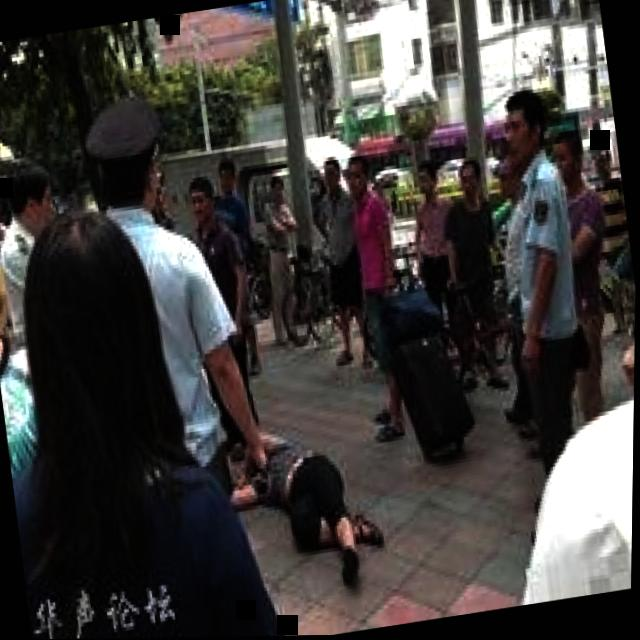Fall-Detected: (214, 373, 393, 599)
